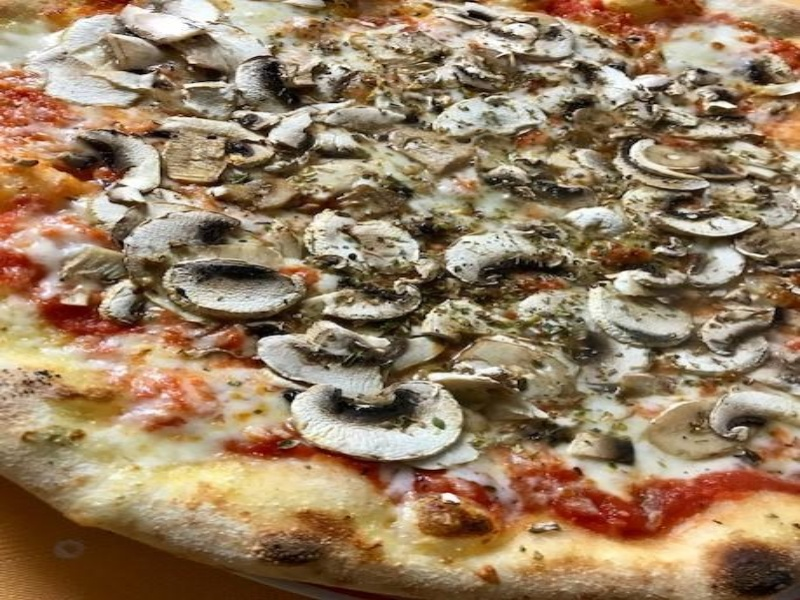champignon: (283, 377, 466, 469), (157, 254, 318, 331)
